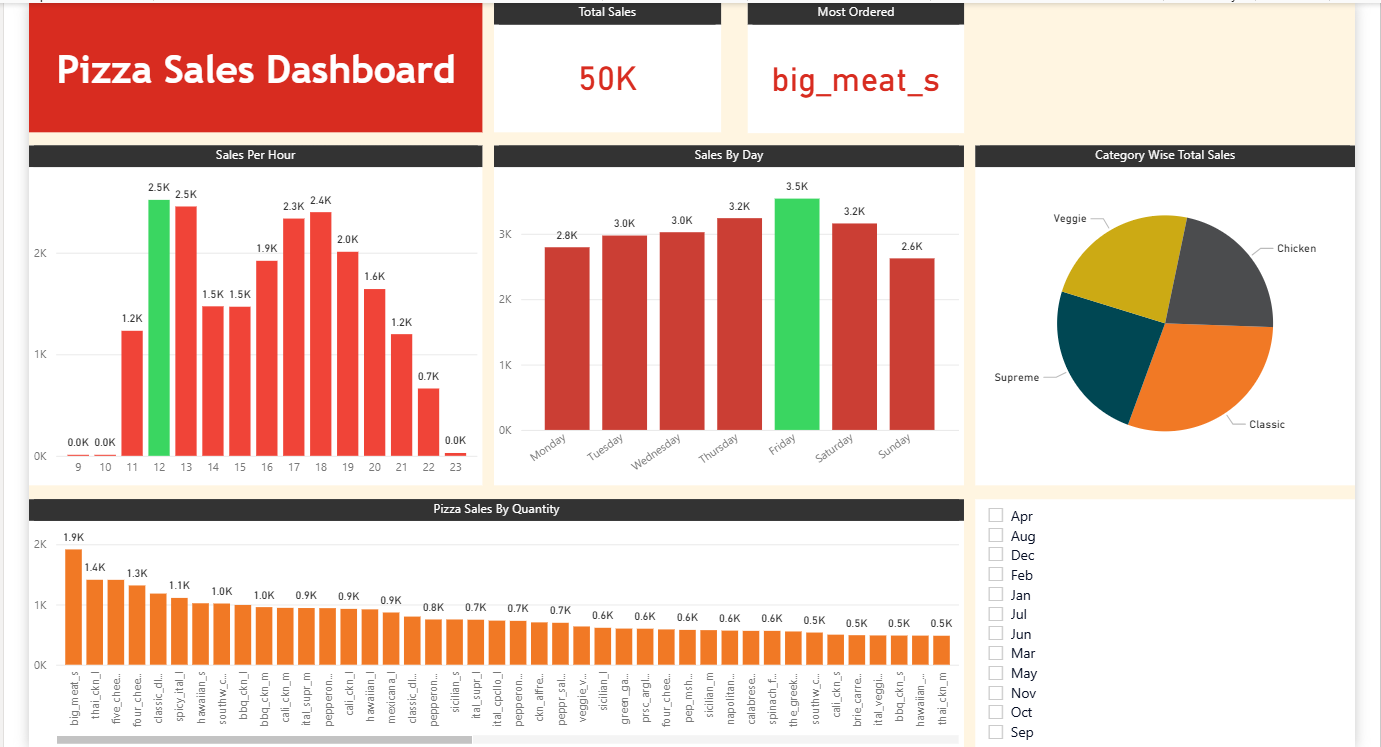

The page's visual inventory and layout, read from the dashboard file:
{"tool":"powerbi","page":{"name":"Page 1","canvas":[1280,720],"ordinal":0},"visuals":[{"type":"columnChart","title":"Sales Per Hour","fields":{"Category":["orders.hour"],"Y":["CountNonNull(orders.order_id)"]},"box":[0,137,437.8,327.7],"z":0},{"type":"columnChart","title":"Sales By Day","fields":{"Category":["orders.day"],"Y":["CountNonNull(orders.order_id)"]},"box":[448.8,137,453.7,327.7],"z":1000},{"type":"card","title":"Total Sales","fields":{"Values":["order_details.total_quantity"]},"box":[448.8,0,218.9,124.7],"z":2000},{"type":"card","title":"Most Ordered","fields":{"Values":["order_details.Most Ordered Pizza"]},"box":[693.3,0,209.1,126],"z":3000},{"type":"columnChart","title":"Pizza Sales By Quantity","fields":{"Category":["pizza_bySales.pizza_id"],"Y":["Sum(pizza_bySales.qty)"]},"box":[0,479.4,902.5,240.9],"z":4000},{"type":"textbox","box":[0,0,437.8,124.7],"z":5000},{"type":"pieChart","title":"Category Wise Total Sales ","fields":{"Category":["pizza_bySales.category"],"Y":["Sum(pizza_bySales.qty)"]},"box":[913.5,137,366.8,327.7],"z":6000},{"type":"slicer","fields":{"Values":["orders.month"]},"box":[913.5,479.4,366.8,240.9],"z":7001}]}

Visuals, with their boxes on the page's 1280x720 design canvas (x1, y1, x2, y2). These are canvas units, not pixel positions in the 1381x747 screenshot, which may show the page scaled, cropped or inside an application window:
"Sales Per Hour" columnChart: 0,137,438,465
"Sales By Day" columnChart: 449,137,902,465
"Total Sales" card: 449,0,668,125
"Most Ordered" card: 693,0,902,126
"Pizza Sales By Quantity" columnChart: 0,479,902,720
textbox: 0,0,438,125
"Category Wise Total Sales " pieChart: 914,137,1280,465
slicer - orders.month: 914,479,1280,720
